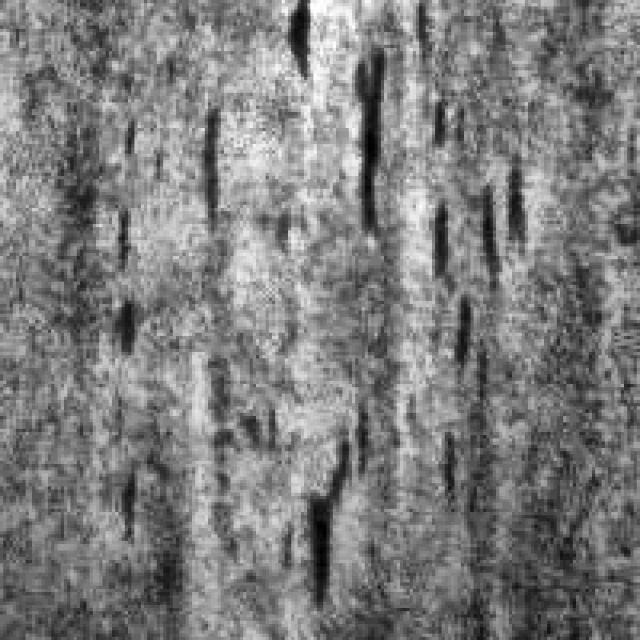Patches: (413, 96, 531, 362), (294, 397, 404, 596), (340, 45, 390, 244), (432, 284, 490, 452), (180, 96, 230, 237), (109, 460, 148, 550), (278, 0, 320, 83), (102, 285, 144, 368), (102, 195, 138, 272)
